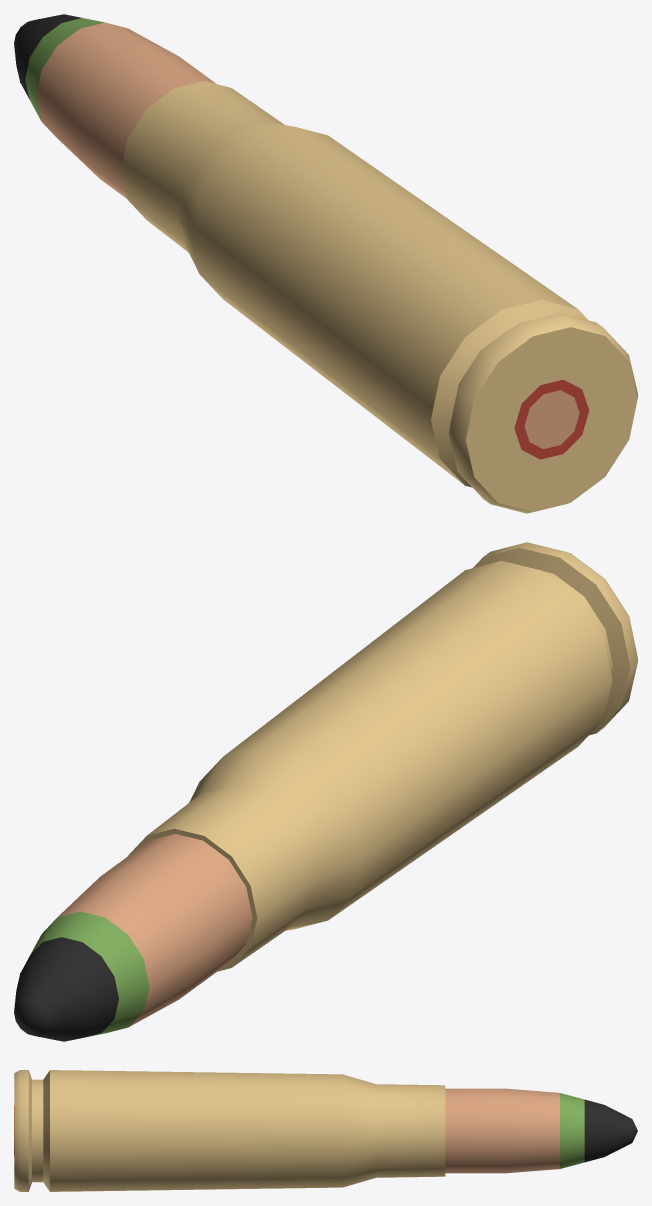
File: round_762x39_us.glb
3 renders of one model, top to bottom at view 1: azimuth 30°, elevation 25°; view 2: azimuth 150°, elevation 25°; view 3: azimuth 270°, elevation 25°, orthographic. The views are drawn at different scales.
Parts seen in each view (by area): view 1: body; view 2: body; view 3: body.
Part boxes in pixels (bbox=[...]): body: bbox=[14, 14, 637, 513]; body: bbox=[14, 542, 637, 1041]; body: bbox=[14, 1070, 637, 1191].
Size of the model in its own units: 0.0112 by 0.0109 by 0.056.
